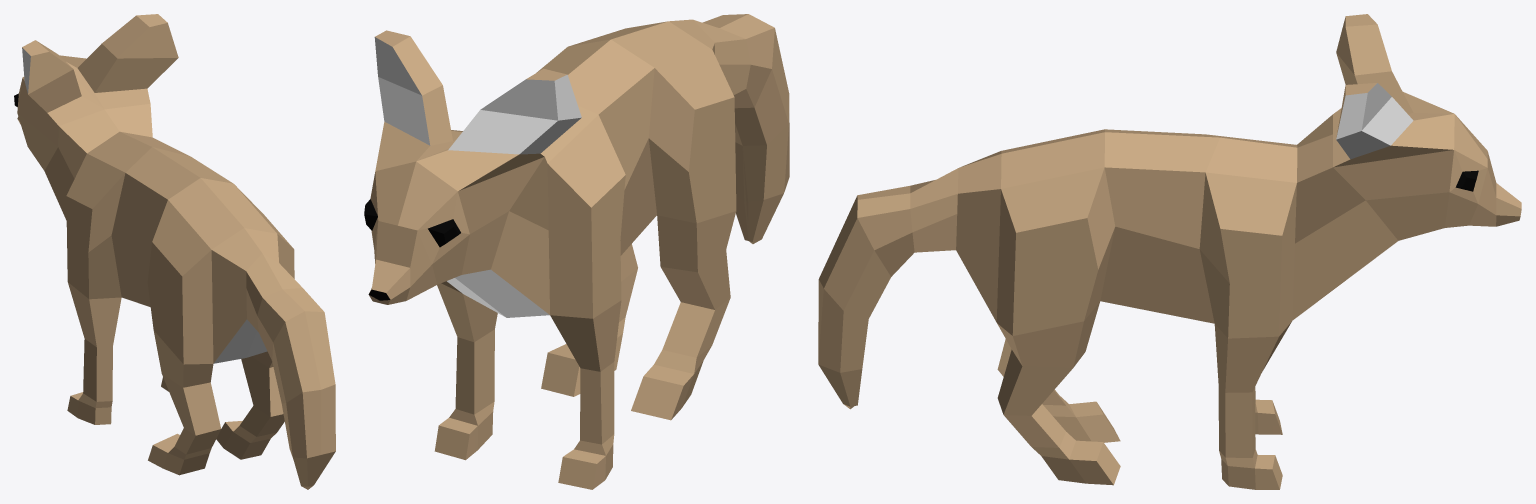
The model's file is Low_Animal.004.gltf.
3 views of the same model, side by side, from view 1: azimuth 30°, elevation 25°; view 2: azimuth 150°, elevation 25°; view 3: azimuth 270°, elevation 25° (orthographic). The views are drawn at different scales.
Visible parts, largest first — view 1: Low_Animal.004; view 2: Low_Animal.004; view 3: Low_Animal.004.
Boxes of the visible parts, x1,y1,x2,y2 form: Low_Animal.004: (14, 14, 335, 489); Low_Animal.004: (364, 14, 789, 489); Low_Animal.004: (818, 14, 1521, 489).
Size of the model in its own units: 1.3 by 2.8 by 4.42.
